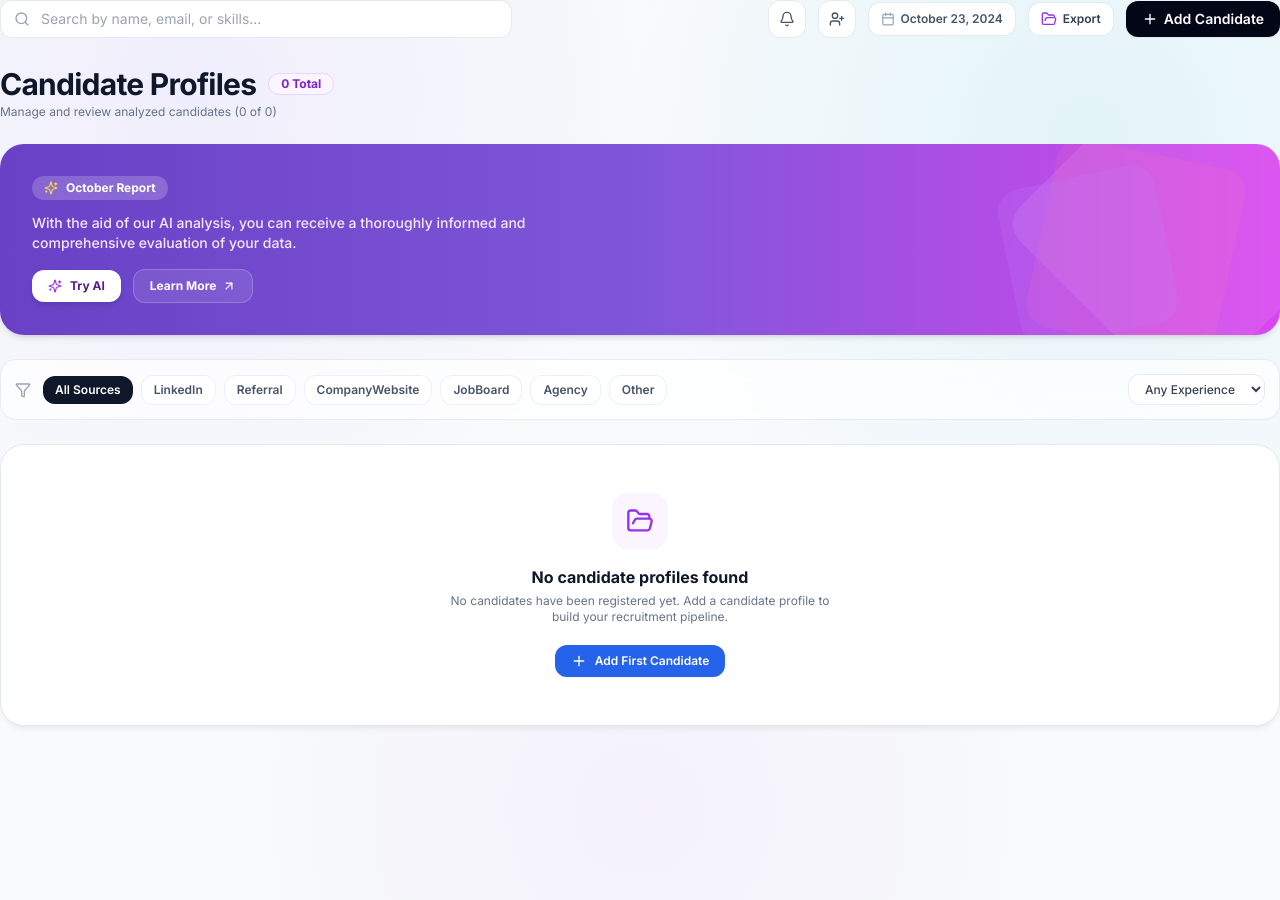
CandidatesView Component — Phase 4 UI Verification › opens Add Candidate modal and displays required inputs
Expected: the heading "No candidate profiles found" is shown, [532,567,748,587]
Click the button "Add Candidate" at (1203, 19), box [1126,1,1279,37]
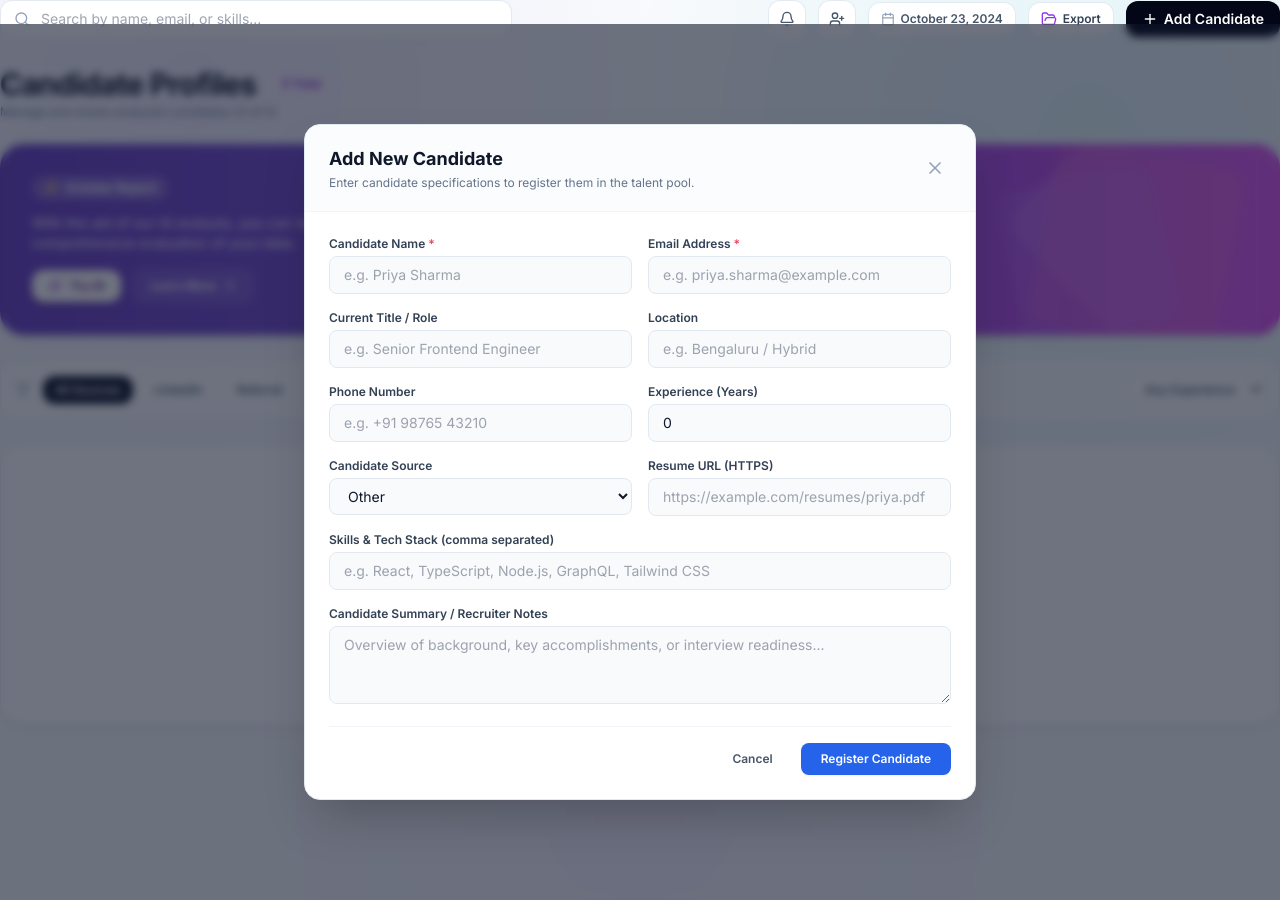
Expected: the heading "Add New Candidate" is shown, [329,148,503,169]
Expected: the field labelled "Candidate Name *" is shown, [329,256,632,294]
Expected: the field labelled "Email Address *" is shown, [648,256,951,294]
